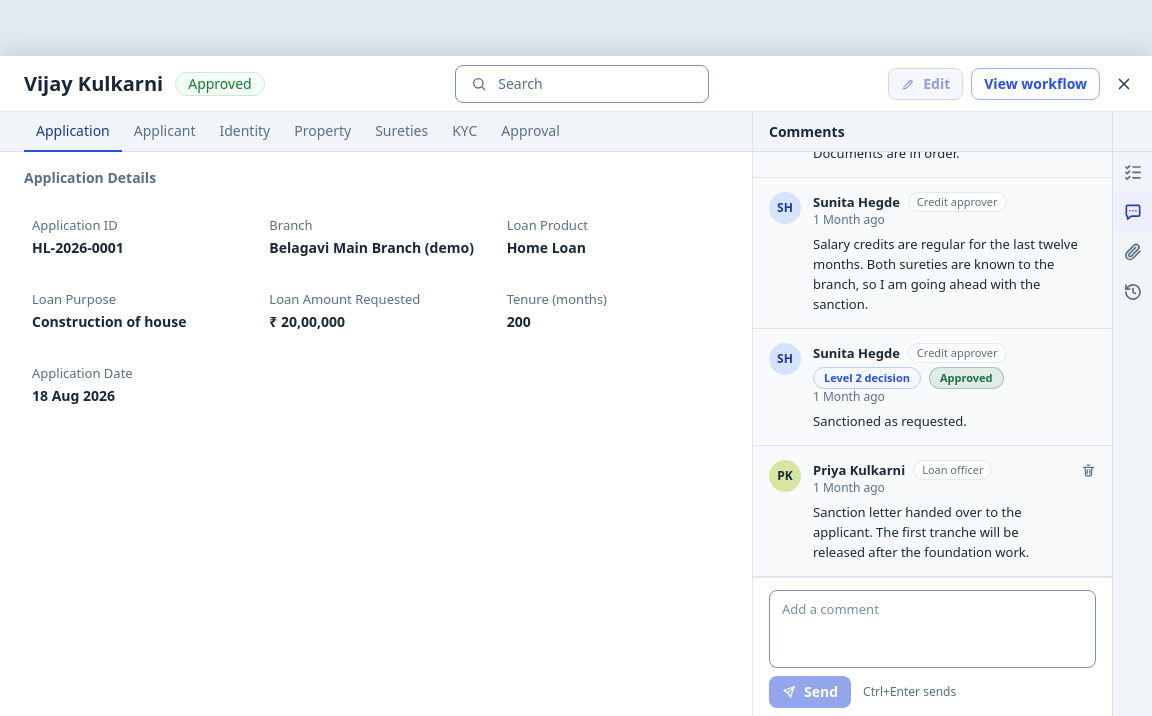
the filter chips › Workflow shows only its events, and the chip is on
(page scrolled)
Click the button named "Audit Log": (1132, 292) [1113, 272, 1151, 312]
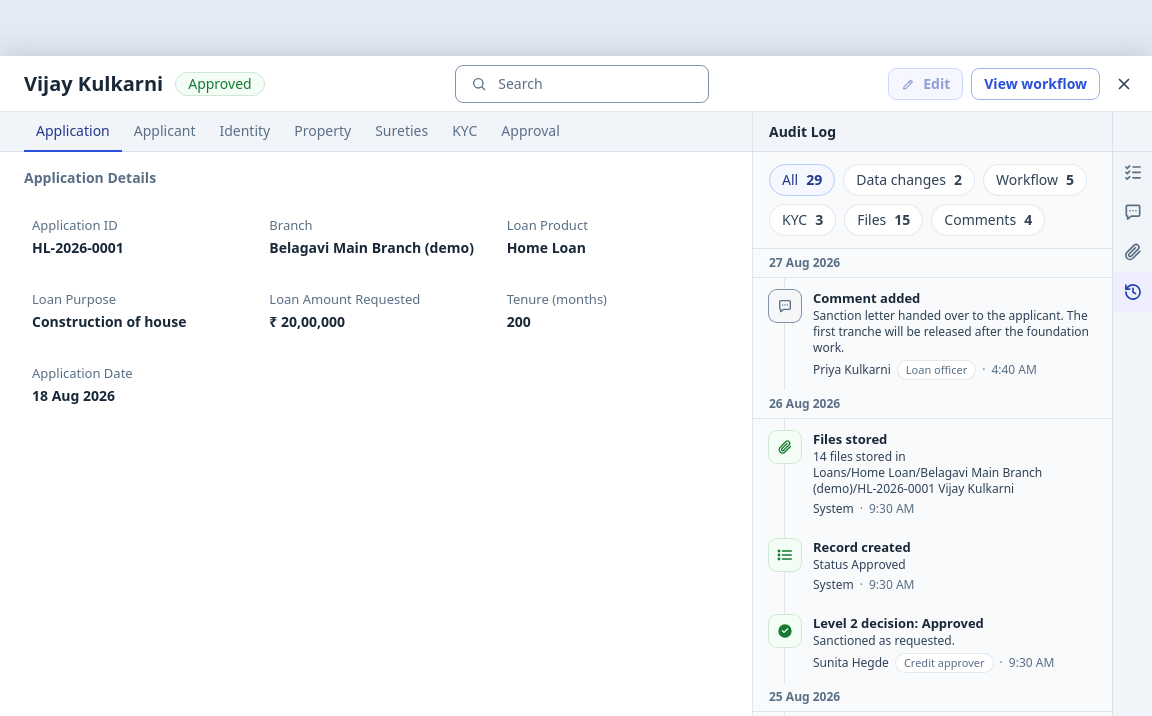
Click the button "Workflow 5": (1035, 180) [983, 164, 1087, 196]
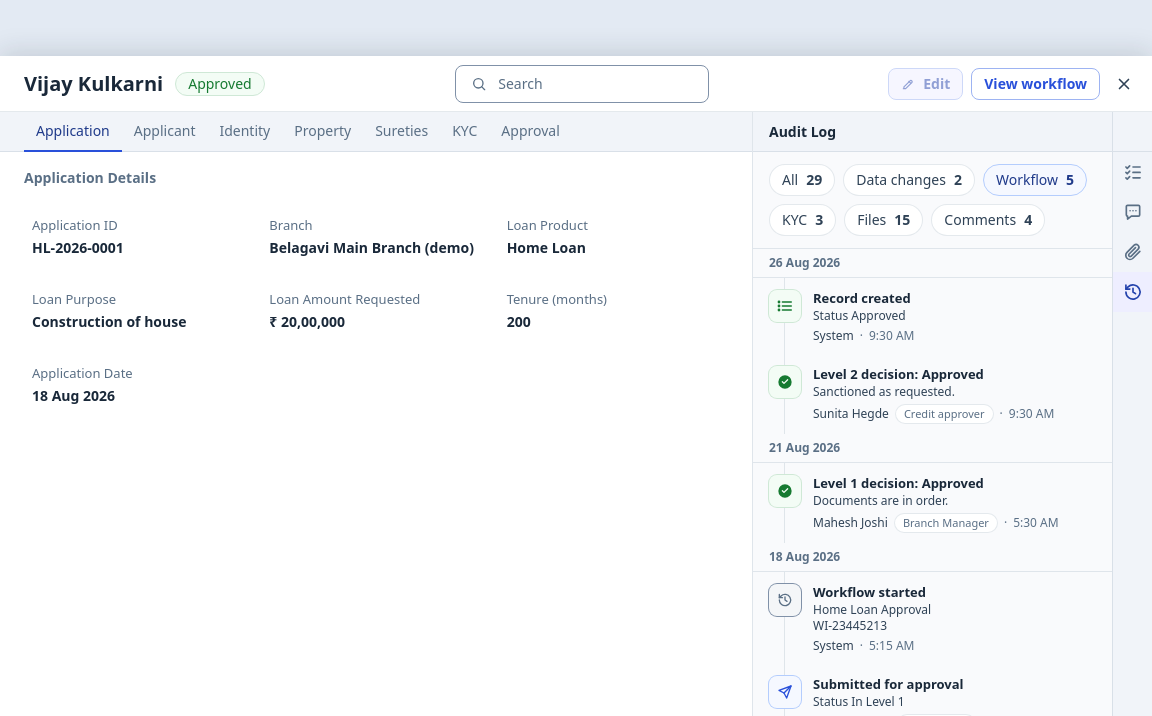
Expected: the text "Record created" is shown, [813, 289, 911, 307]
Expected: the text "Submitted for approval" is shown, [813, 675, 964, 693]
Expected: the text "Level 1 decision: Approved" is shown, [813, 474, 984, 492]
